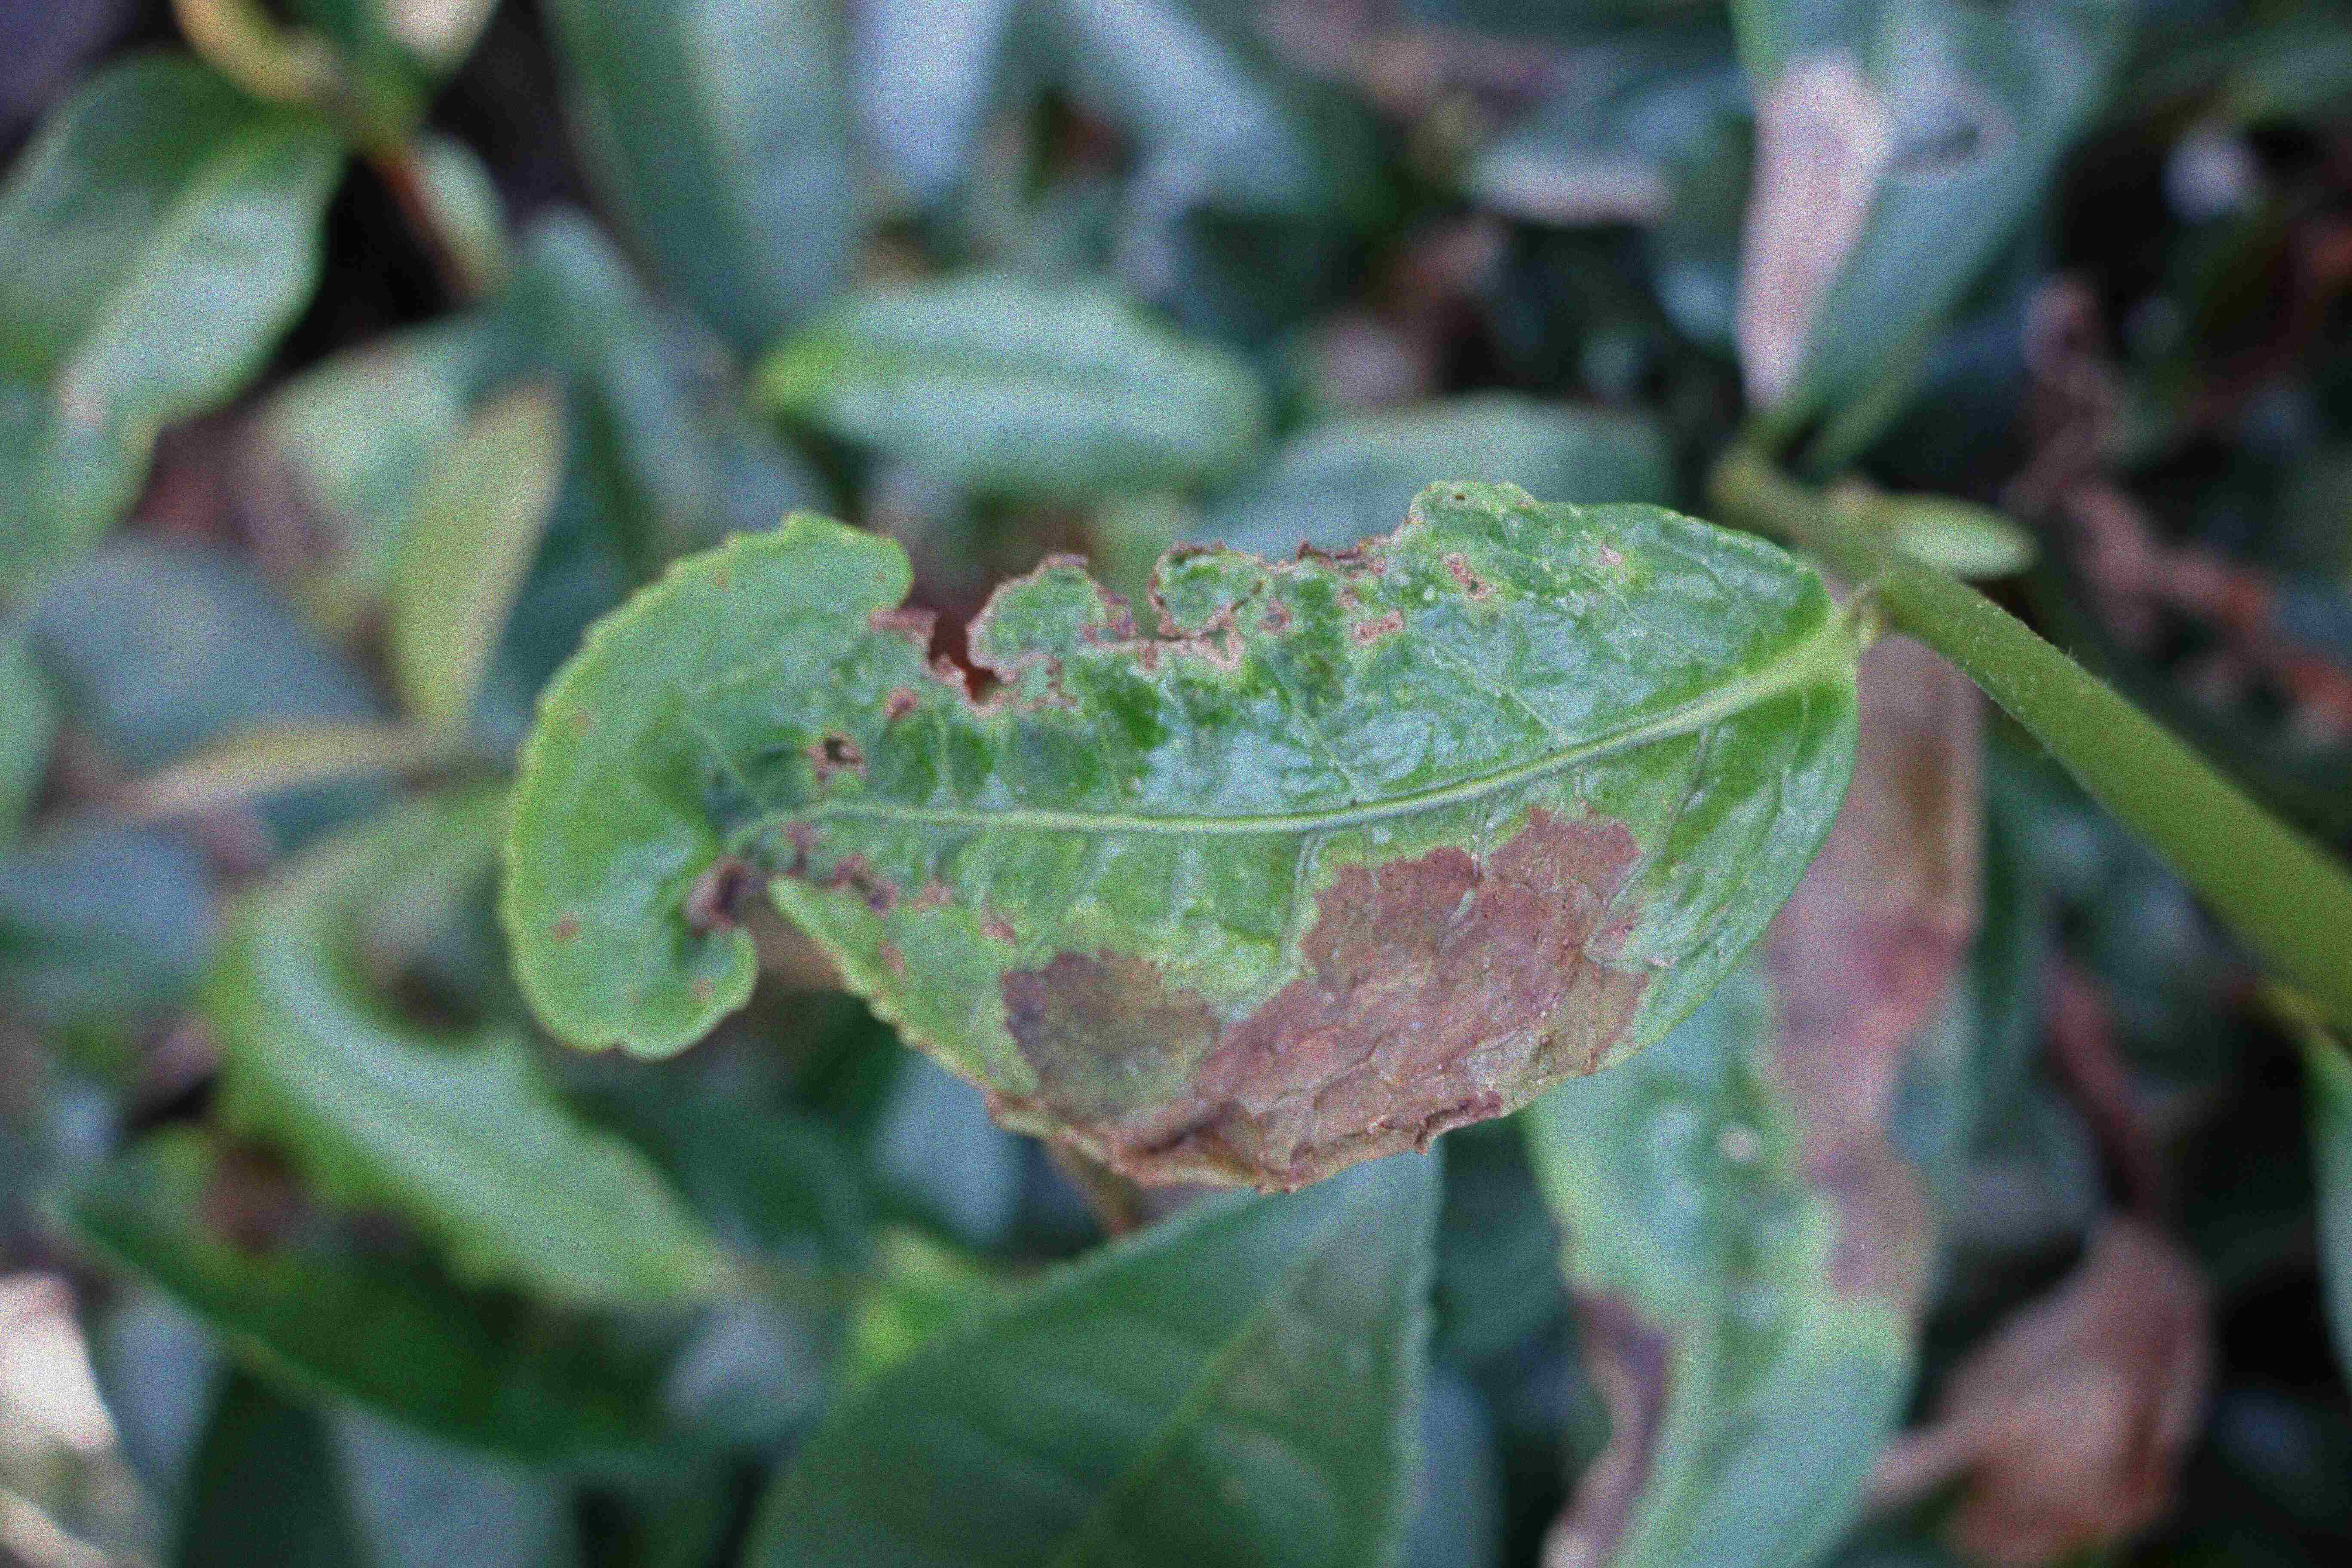tanju_high: (497, 476, 1864, 1193)
